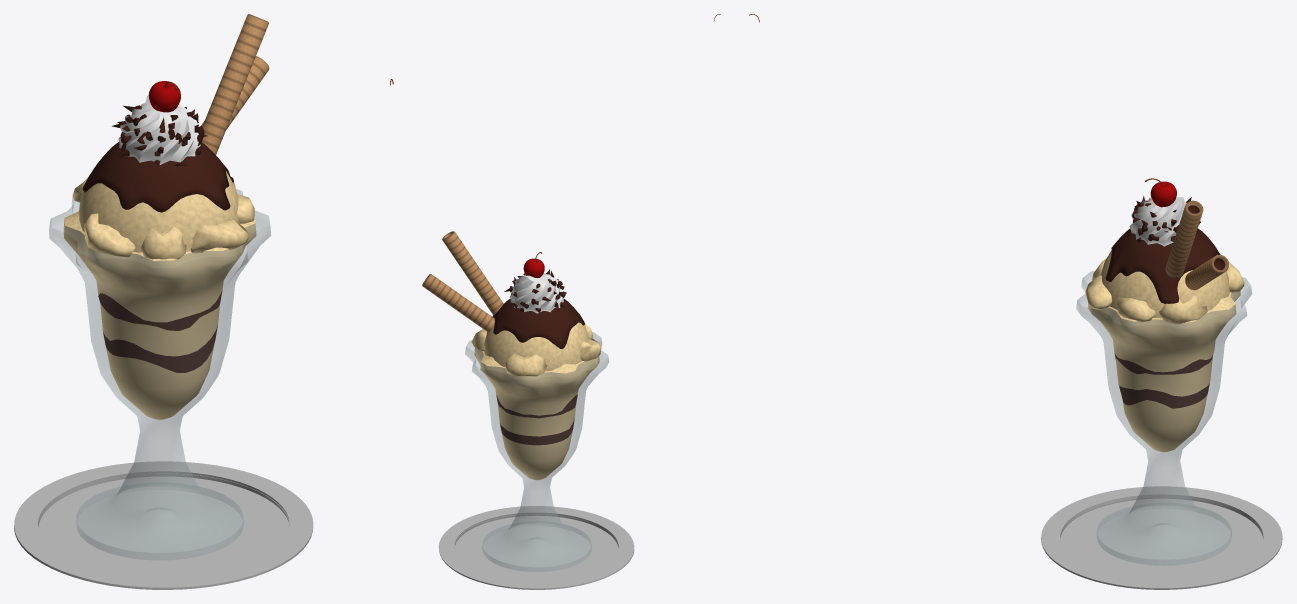
File: ice.glb
3 renders of one model, left to right at view 1: azimuth 30°, elevation 25°; view 2: azimuth 150°, elevation 25°; view 3: azimuth 270°, elevation 25°, orthographic. The views are drawn at different scales.
Parts seen in each view (by area): view 1: IceCream_Glass, Circle, IceCream_Main, IceCream_Chocolate_Top, IceCream_Bar.000, IceCream_Top_Cream, IceCream_Nuts, pSphere4.001, IceCream_Bar.001; view 2: IceCream_Glass, Circle, IceCream_Main, IceCream_Chocolate_Top, IceCream_Bar.000, IceCream_Top_Cream, IceCream_Bar.001, IceCream_Nuts; view 3: IceCream_Glass, Circle, IceCream_Main, IceCream_Chocolate_Top, IceCream_Top_Cream, IceCream_Bar.000, IceCream_Bar.001.
Part boxes in pixels (x1,y1,x2,y2): IceCream_Glass: (49, 189, 270, 560); Circle: (14, 461, 313, 589); IceCream_Main: (72, 170, 254, 259); IceCream_Chocolate_Top: (82, 142, 233, 212); IceCream_Bar.000: (202, 14, 268, 154); IceCream_Top_Cream: (118, 95, 200, 164); IceCream_Nuts: (112, 105, 207, 166); pSphere4.001: (148, 81, 180, 112); IceCream_Bar.001: (201, 56, 269, 129); IceCream_Glass: (465, 332, 608, 571); Circle: (438, 506, 634, 589); IceCream_Main: (471, 317, 601, 376); IceCream_Chocolate_Top: (492, 298, 584, 348); IceCream_Bar.000: (442, 231, 503, 315); IceCream_Top_Cream: (510, 273, 563, 313); IceCream_Bar.001: (422, 274, 494, 332); IceCream_Nuts: (504, 269, 566, 312); IceCream_Glass: (1076, 271, 1251, 565); Circle: (1041, 486, 1282, 589); IceCream_Main: (1085, 251, 1244, 324); IceCream_Chocolate_Top: (1105, 228, 1220, 303); IceCream_Top_Cream: (1129, 197, 1186, 246); IceCream_Bar.000: (1165, 200, 1203, 278); IceCream_Bar.001: (1185, 255, 1228, 290).
Size of the model in its own units: 0.2222 by 0.5095 by 0.4744.
10 materials, 4 textured.
